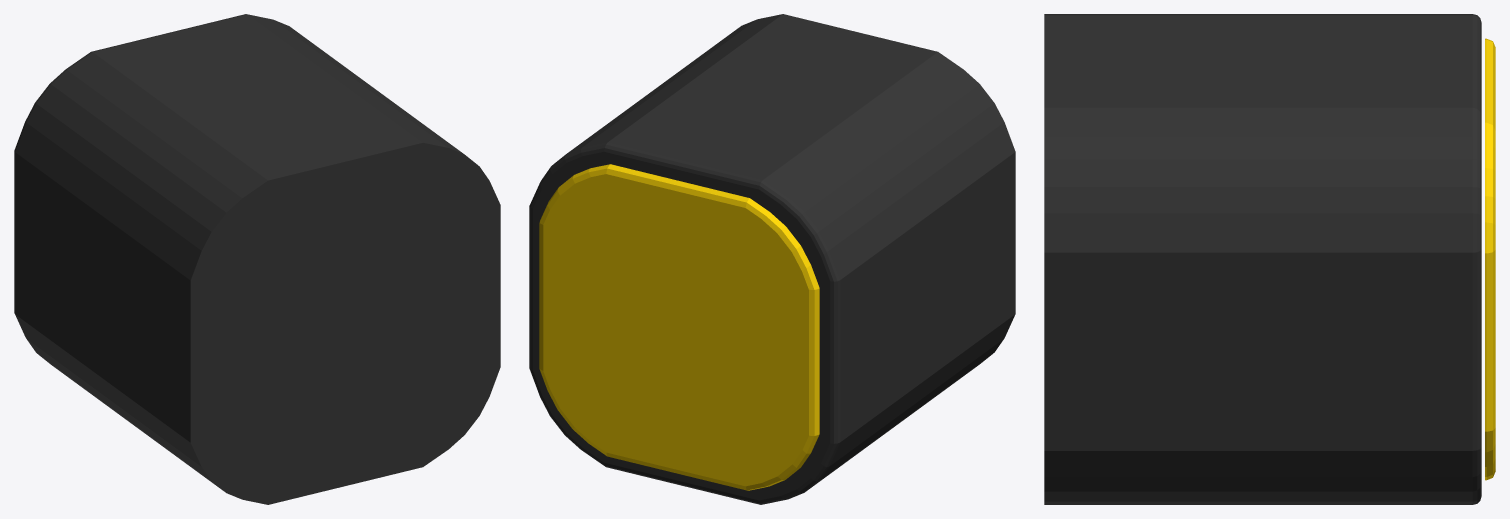
3 renders of one model, left to right at view 1: azimuth 30°, elevation 25°; view 2: azimuth 150°, elevation 25°; view 3: azimuth 270°, elevation 25°, orthographic. The views are drawn at different scales.
Visible parts, largest first — view 1: Cube.021; view 2: Cube.021, Cube.082; view 3: Cube.021, Cube.082.
Boxes of the visible parts, x1,y1,x2,y2 form: Cube.021: (14, 14, 500, 504); Cube.021: (529, 14, 1015, 504); Cube.082: (539, 164, 819, 490); Cube.021: (1044, 14, 1481, 504); Cube.082: (1485, 38, 1495, 480).
Size of the model in its own units: 200 by 200 by 206.
